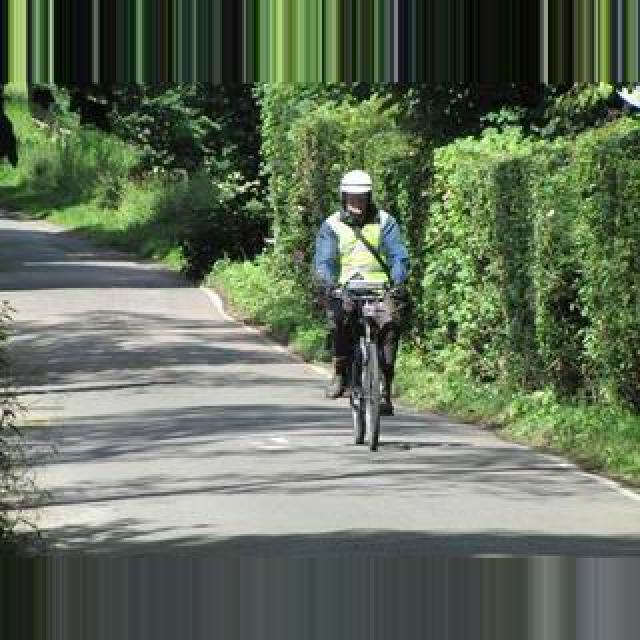MC-Bike: (312, 170, 410, 414)
Person: (322, 281, 402, 449)
